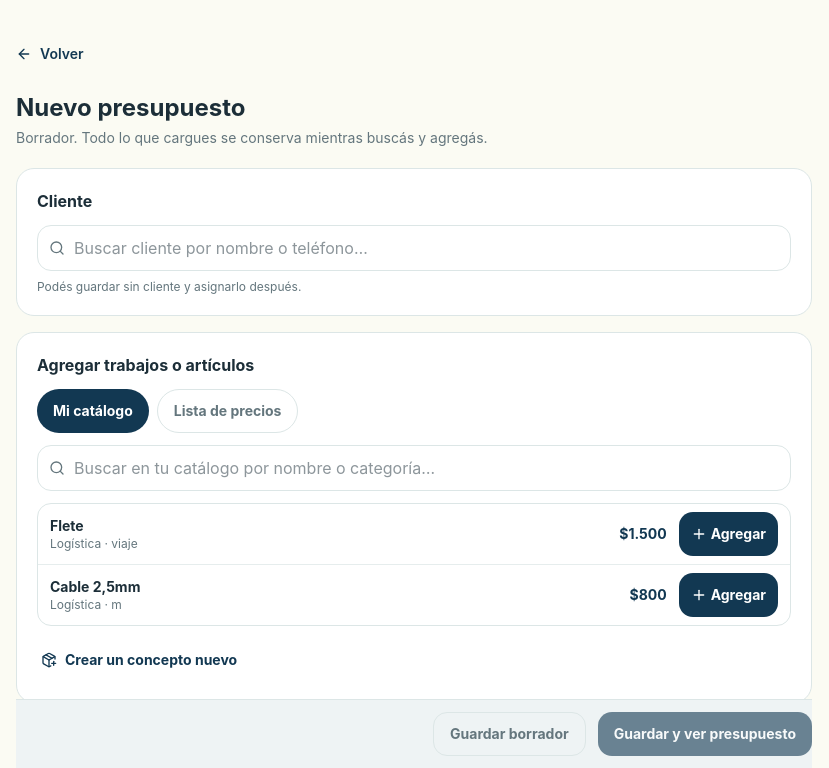
Scenario: formulario de presupuesto: búsqueda y carga › cambia a la lista de precios sin perder lo cargado
Click the button with aria-label "Agregar Flete" at (728,534), box top-left (679, 512), bottom-right (778, 556)
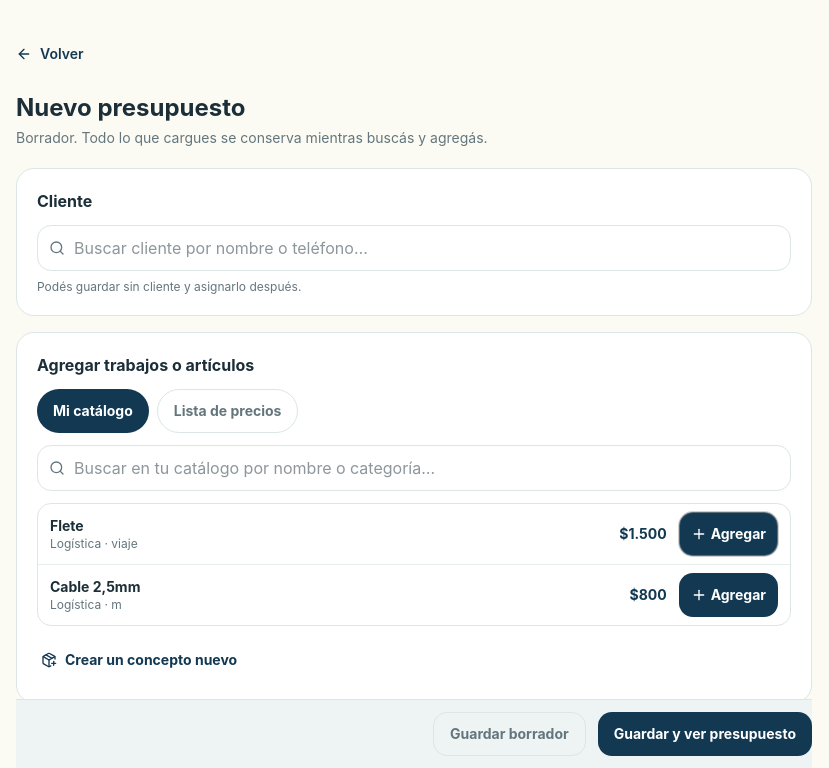
Click the tab "Lista de precios" at (228,411), box top-left (157, 389), bottom-right (298, 433)
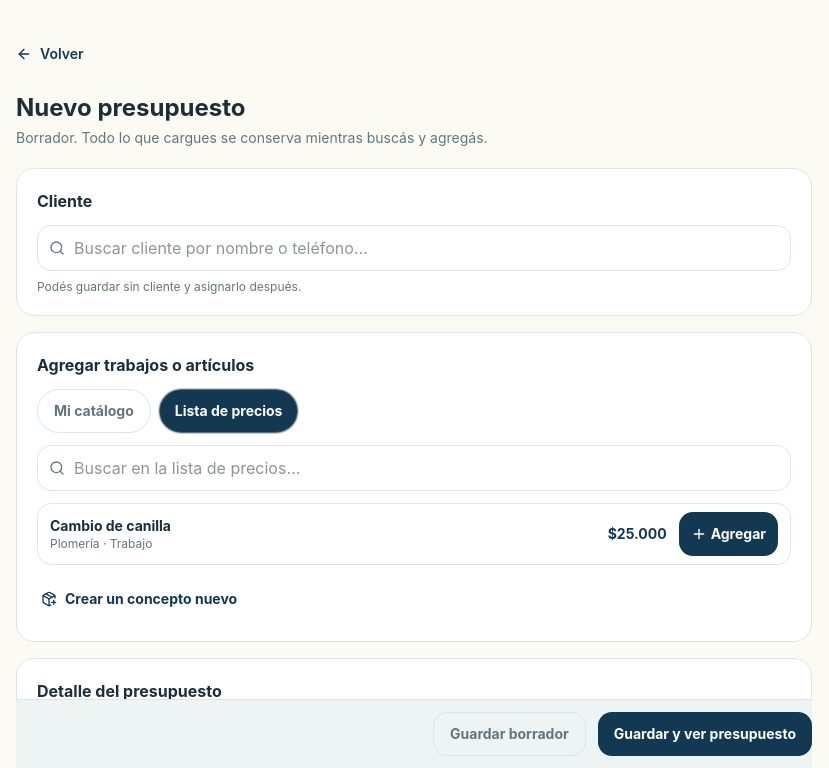
Click the button "Agregar" at (728,534), box top-left (679, 512), bottom-right (778, 556)
(page scrolled)
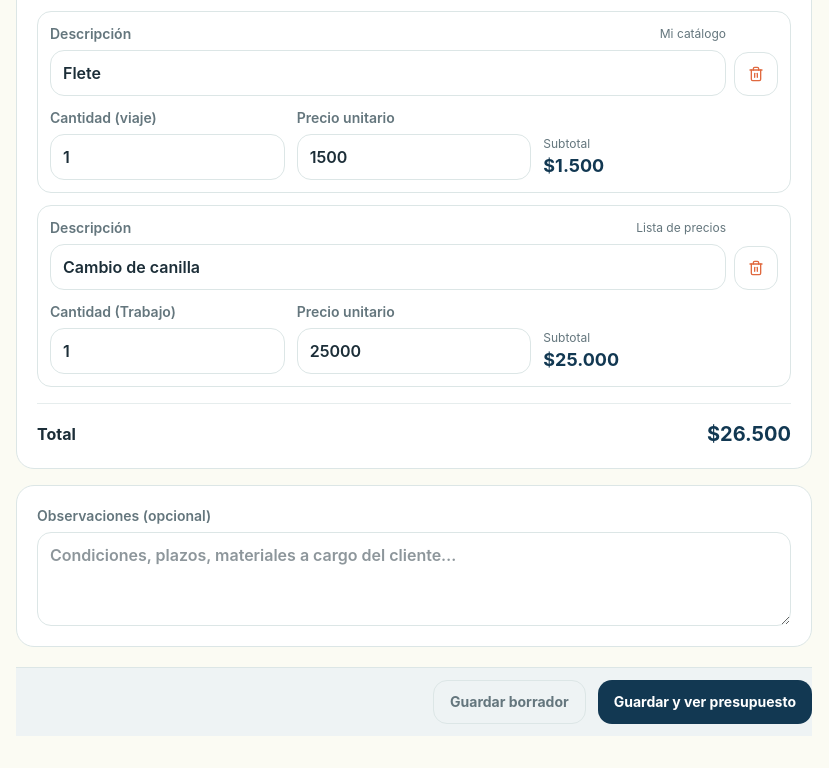
Now the number of fields labelled "Descripción Mi catálogo" is 2, box top-left (50, 50), bottom-right (726, 96); top-left (50, 244), bottom-right (726, 290)
Now the text with test id "quote-total" shows "26.500", box top-left (707, 422), bottom-right (791, 446)
